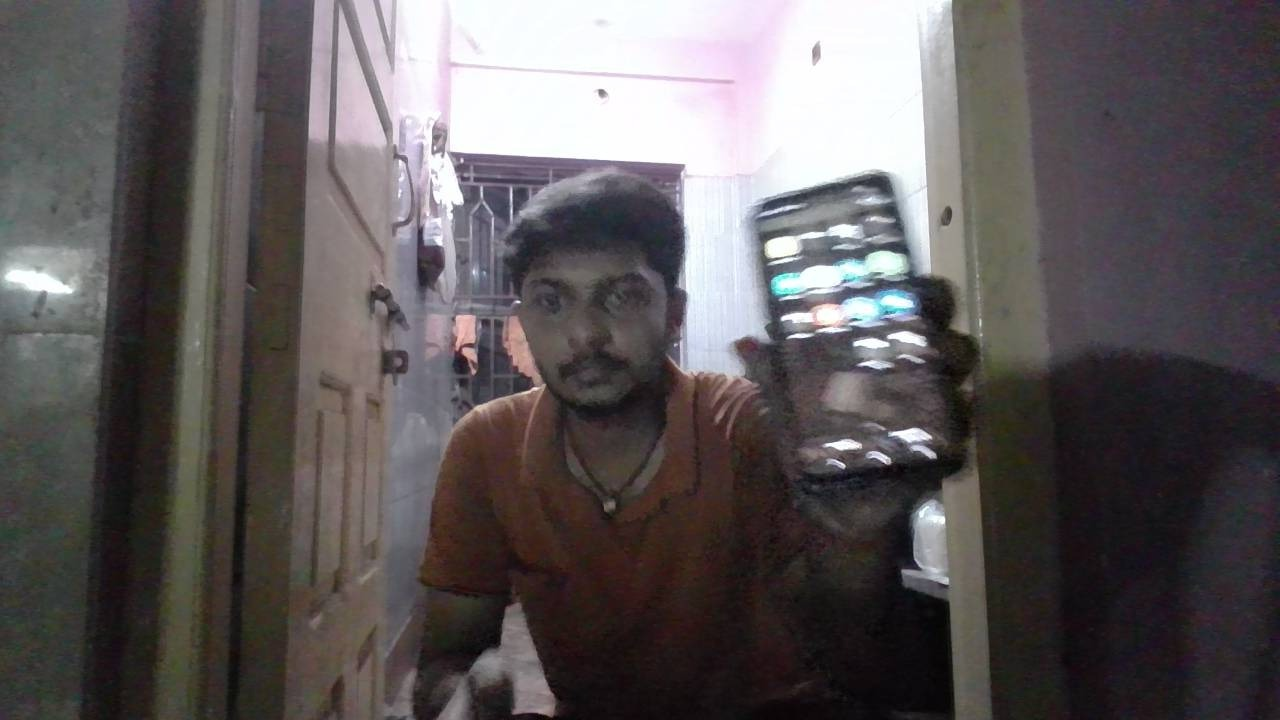red_box: (426, 408, 592, 585), (669, 419, 755, 539), (623, 450, 694, 522)
